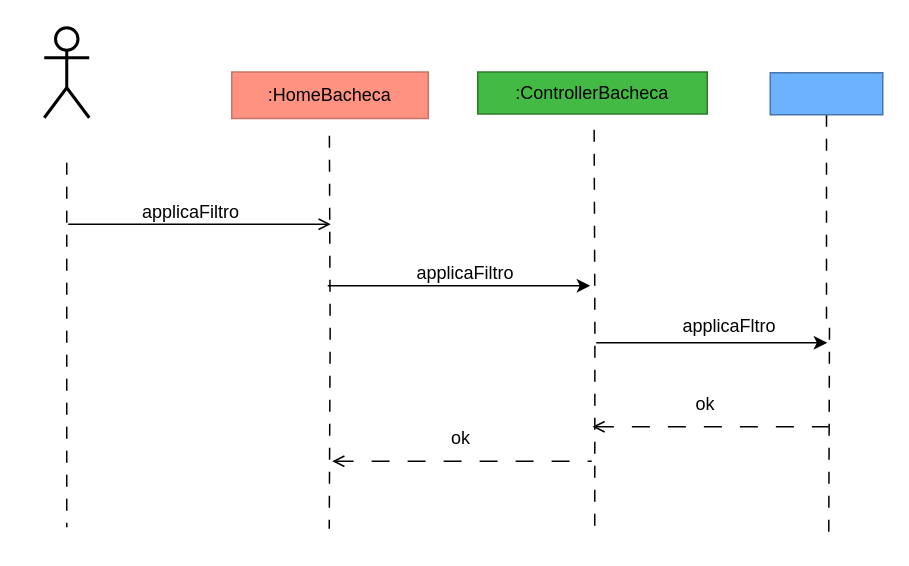
This 909x566 diagram has some shape labels left out. The box of each missing label's shape, as (x1, y1, x2, y2) in pixels:
:Bacheca: (769, 71, 883, 115)
Utente: (42, 26, 90, 118)
